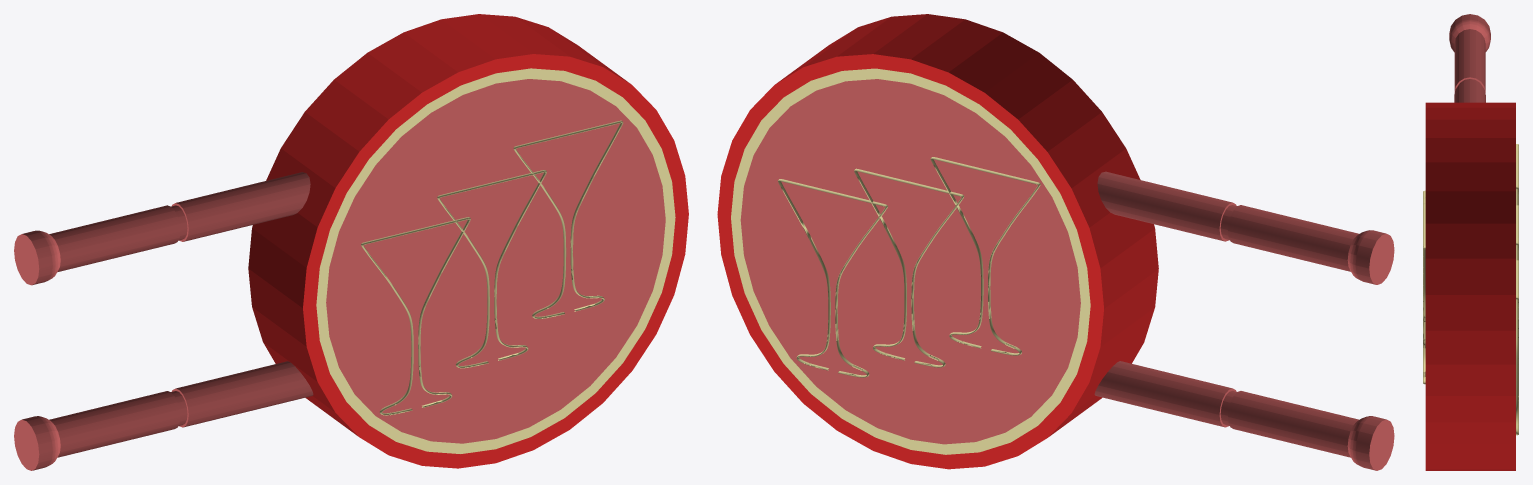
Rendered from Bar_SignFBX.fbx.
The picture shows the model from 3 angles, left to right: view 1: azimuth 30°, elevation 25°; view 2: azimuth 150°, elevation 25°; view 3: azimuth 270°, elevation 25°; orthographic projection. The views are drawn at different scales.
Parts seen in each view (by area): view 1: BarsignGlass010; view 2: BarsignGlass010; view 3: BarsignGlass010.
Boxes of the visible parts, box(x1,y1,x2,y2) form: BarsignGlass010: box(14, 14, 688, 470); BarsignGlass010: box(717, 14, 1394, 470); BarsignGlass010: box(1423, 14, 1518, 470).
Size of the model in its own units: 185 by 112 by 29.25.
